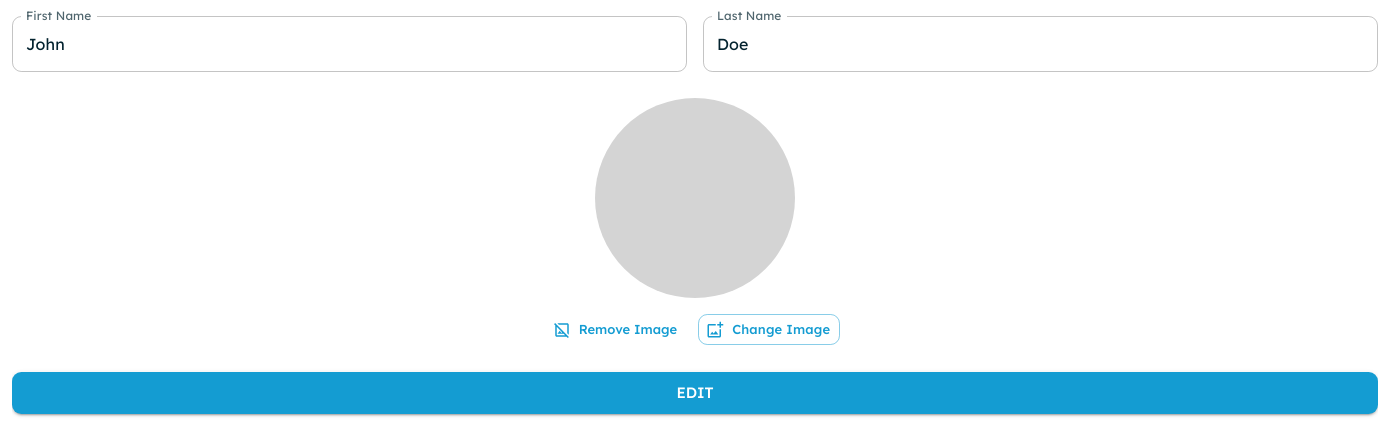
Edit Profile › Profile image › The user should be able to remove their current profile image
Click the button "Remove Image": (616, 330) [550,314,682,345]
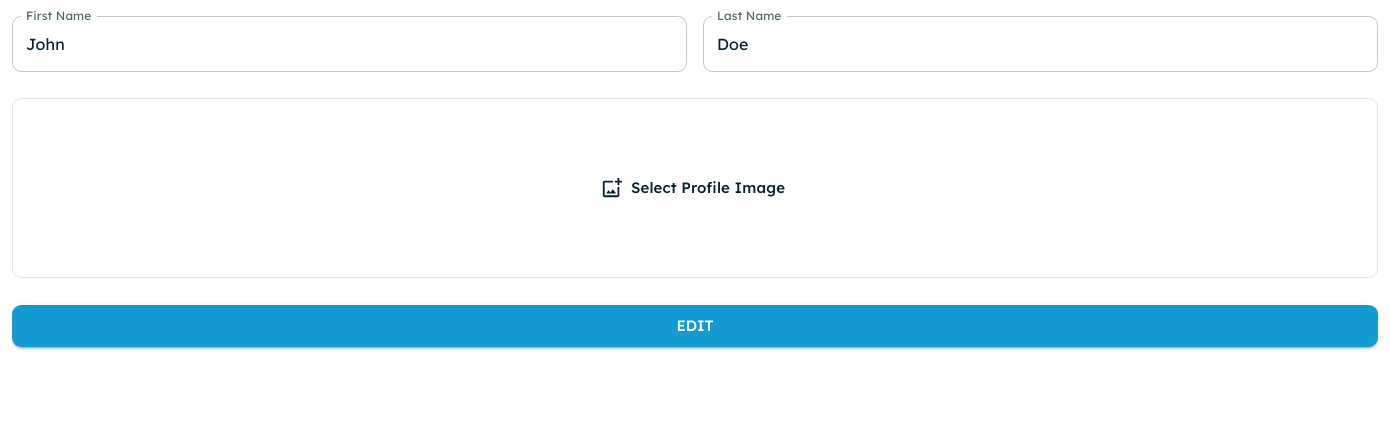
Expected: the picture is gone
